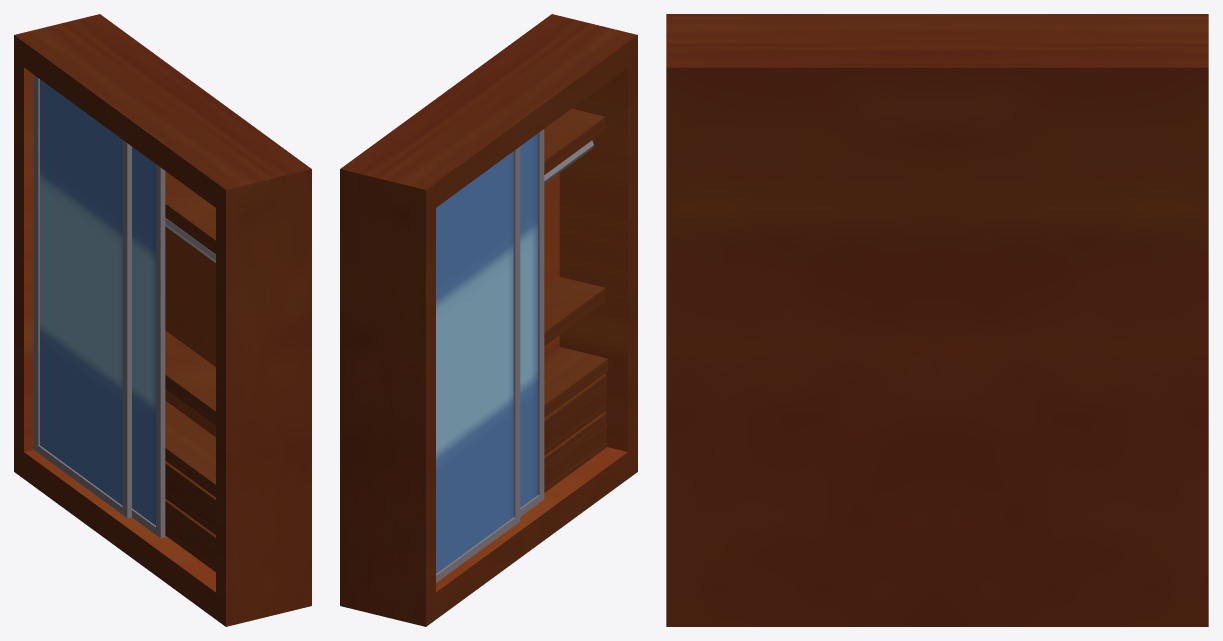
The model's file is wardrobe textured.fbx.
The picture shows the model from 3 angles, left to right: view 1: azimuth 30°, elevation 25°; view 2: azimuth 150°, elevation 25°; view 3: azimuth 270°, elevation 25°; orthographic projection. The views are drawn at different scales.
Visible parts, largest first — view 1: Door 1.001, w. wardrobe right, w. wardrobe top, Door 2.001, w. wardrobe bottom, w. wardrobe left, Bottom Shelf of wardrobe.001, w. wardrobe back, Middle Shelf of Wadrobe.001, Top Shelf of Wardrobe.001, circular thingy.001; view 2: w. wardrobe left, Door 1.001, w. wardrobe top, w. wardrobe right, w. wardrobe bottom, Door 2.001, Bottom Shelf of wardrobe.001, Middle Shelf of Wadrobe.001, Top Shelf of Wardrobe.001, w. wardrobe back, circular thingy.001; view 3: w. wardrobe back, w. wardrobe top, w. wardrobe bottom, w. wardrobe left, w. wardrobe right.
Boxes of the visible parts, x1,y1,x2,y2 form: Door 1.001: (33, 75, 131, 518); w. wardrobe right: (216, 194, 311, 599); w. wardrobe top: (14, 14, 311, 215); Door 2.001: (132, 147, 165, 538); w. wardrobe bottom: (14, 445, 311, 626); w. wardrobe left: (14, 60, 33, 451); Bottom Shelf of wardrobe.001: (165, 400, 215, 571); w. wardrobe back: (165, 226, 215, 436); Middle Shelf of Wadrobe.001: (165, 330, 215, 425); Top Shelf of Wardrobe.001: (165, 171, 215, 254); circular thingy.001: (165, 218, 215, 262); w. wardrobe left: (340, 194, 435, 599); Door 1.001: (436, 146, 520, 582); w. wardrobe top: (340, 14, 637, 215); w. wardrobe right: (559, 60, 637, 451); w. wardrobe bottom: (340, 445, 637, 626); Door 2.001: (520, 129, 544, 516); Bottom Shelf of wardrobe.001: (544, 347, 608, 492); Middle Shelf of Wadrobe.001: (544, 277, 605, 345); Top Shelf of Wardrobe.001: (544, 108, 605, 174); w. wardrobe back: (544, 173, 559, 357); circular thingy.001: (544, 140, 593, 183); w. wardrobe back: (700, 100, 1174, 592); w. wardrobe top: (666, 14, 1208, 99); w. wardrobe bottom: (666, 592, 1208, 626); w. wardrobe left: (1174, 100, 1208, 592); w. wardrobe right: (666, 100, 700, 592).
Size of the model in its own units: 748 by 3637 by 3196.
